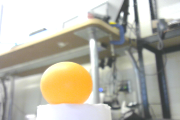PingPongBall: (41, 62, 92, 105)
